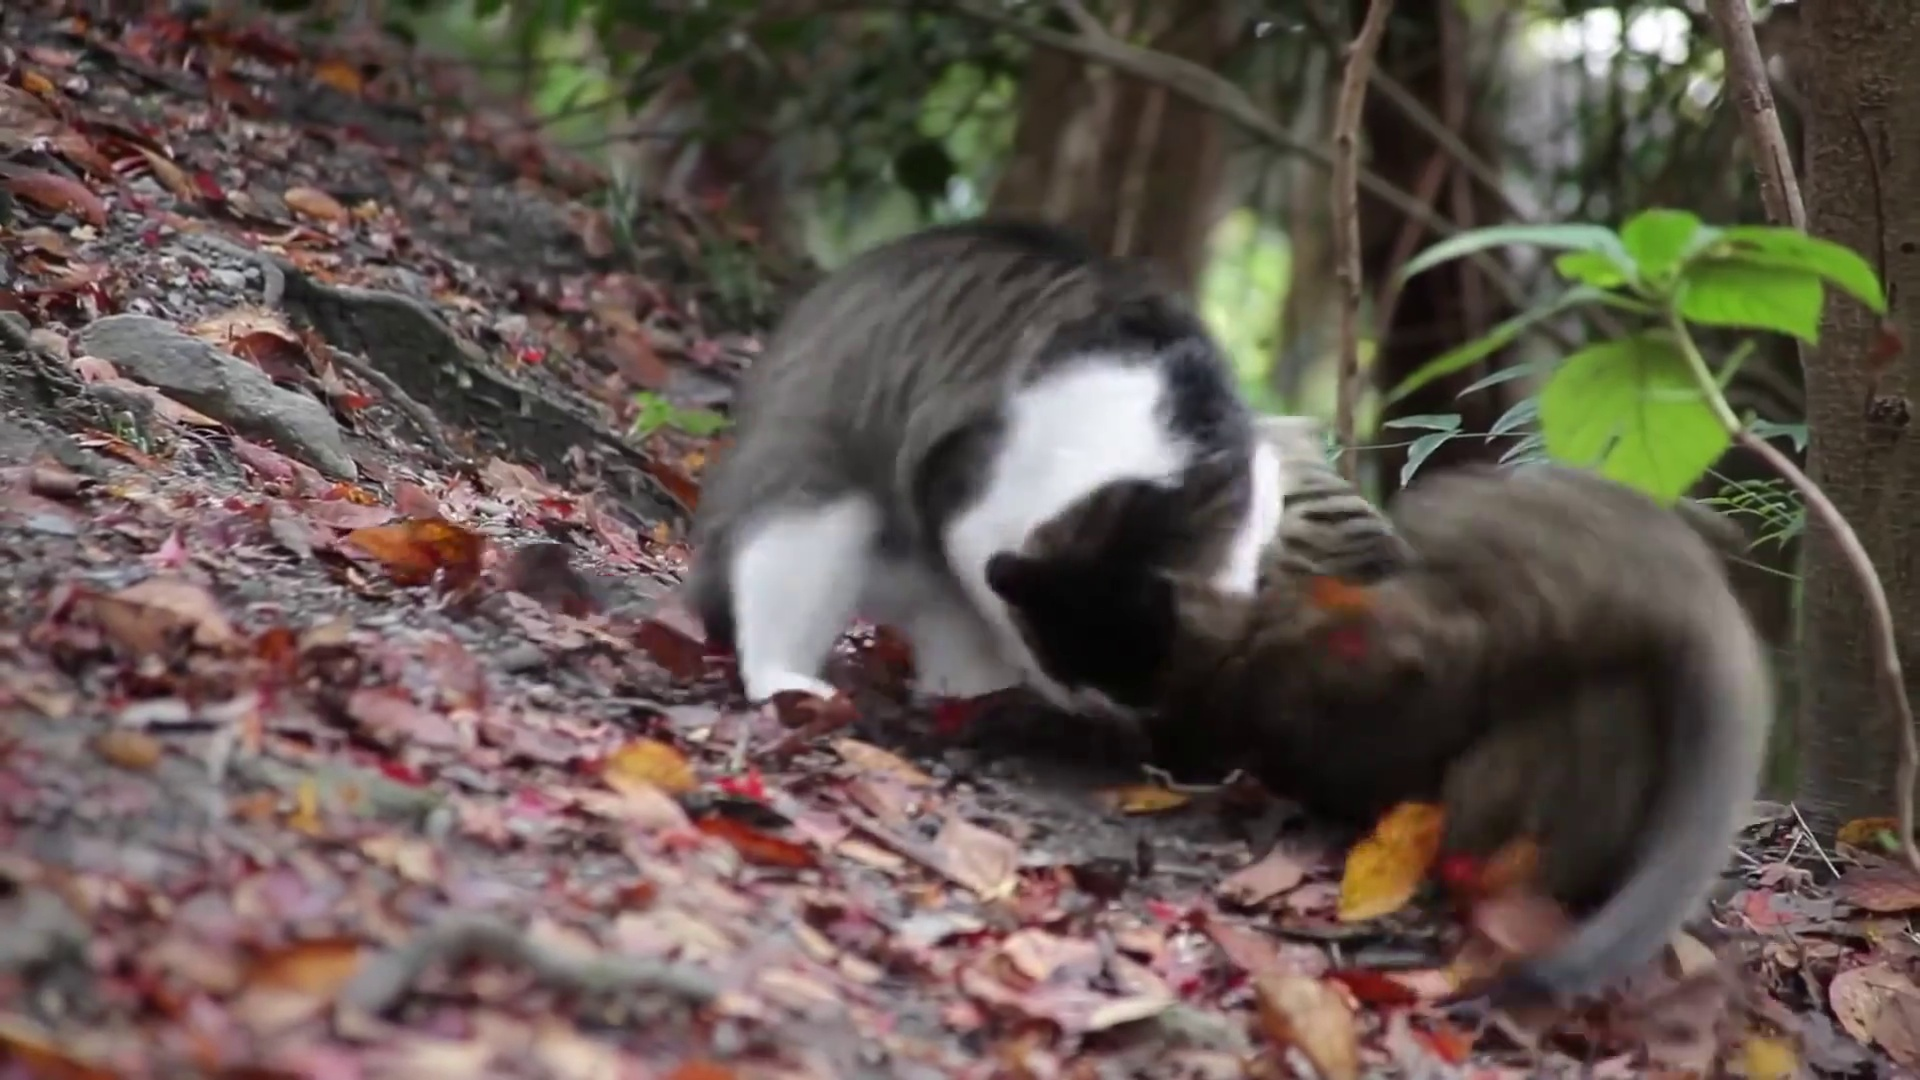black-white: (684, 222, 1288, 704)
pure black: (1215, 460, 1768, 1009)
